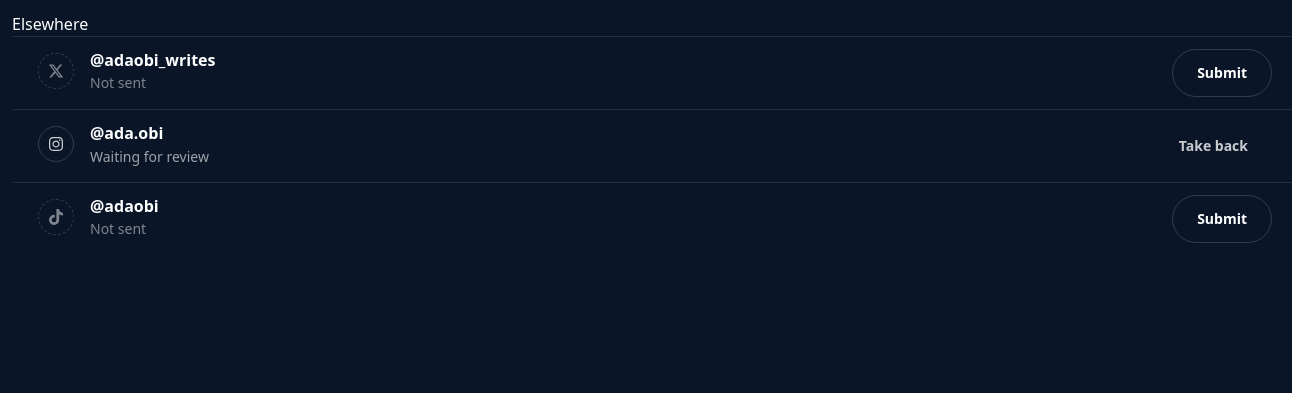
Test case: the week's rows › leaves focus where the creator went when a submit lands after they moved on
Click the button with aria-label "Submit your TikTok post".
click(1222, 219)  # box left=1172, top=195, right=1272, bottom=243
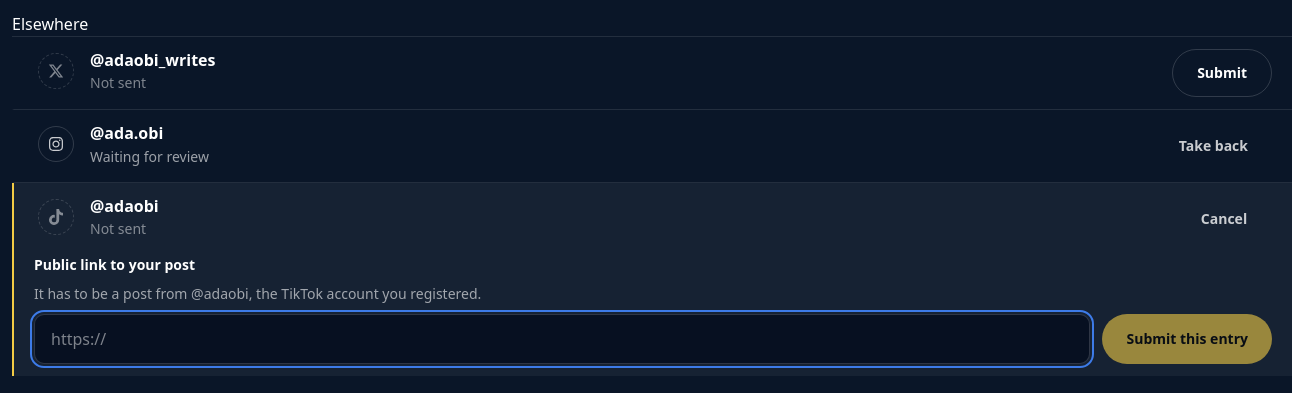
Type "https://www.tiktok.com/@adaobi/video/1" into the field labelled "Public link to your post".
click(562, 339); type("https://www.tiktok.com/@adaobi/video/1")  # box left=34, top=314, right=1090, bottom=364
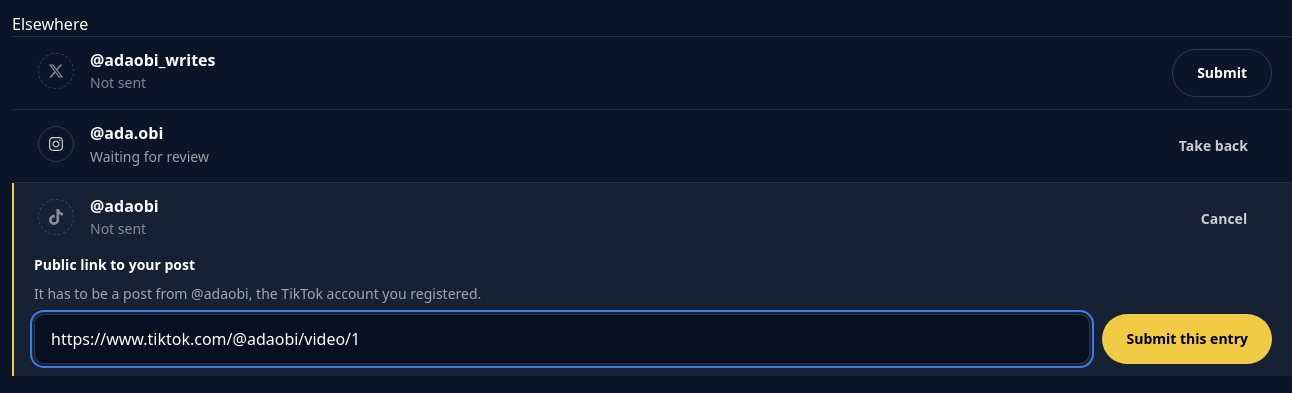
Click the button "Submit this entry".
click(1187, 339)  # box left=1102, top=314, right=1272, bottom=364
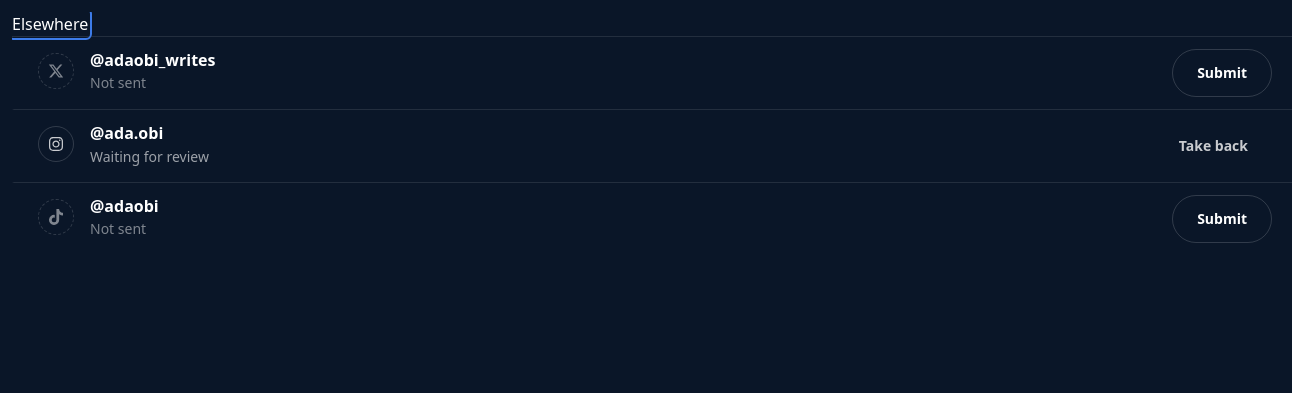
Check: no labels labelled "Public link to your post" are shown
